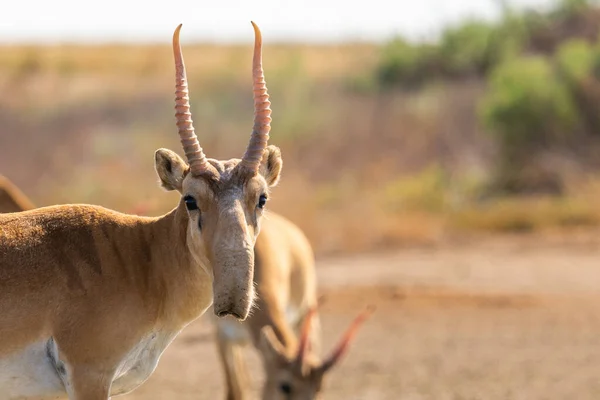saiga: (1, 20, 285, 400)
